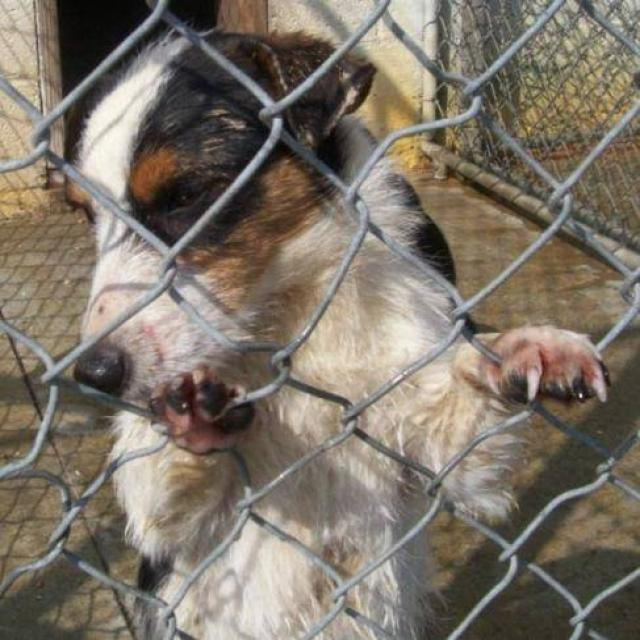Dog: (49, 24, 362, 378)
